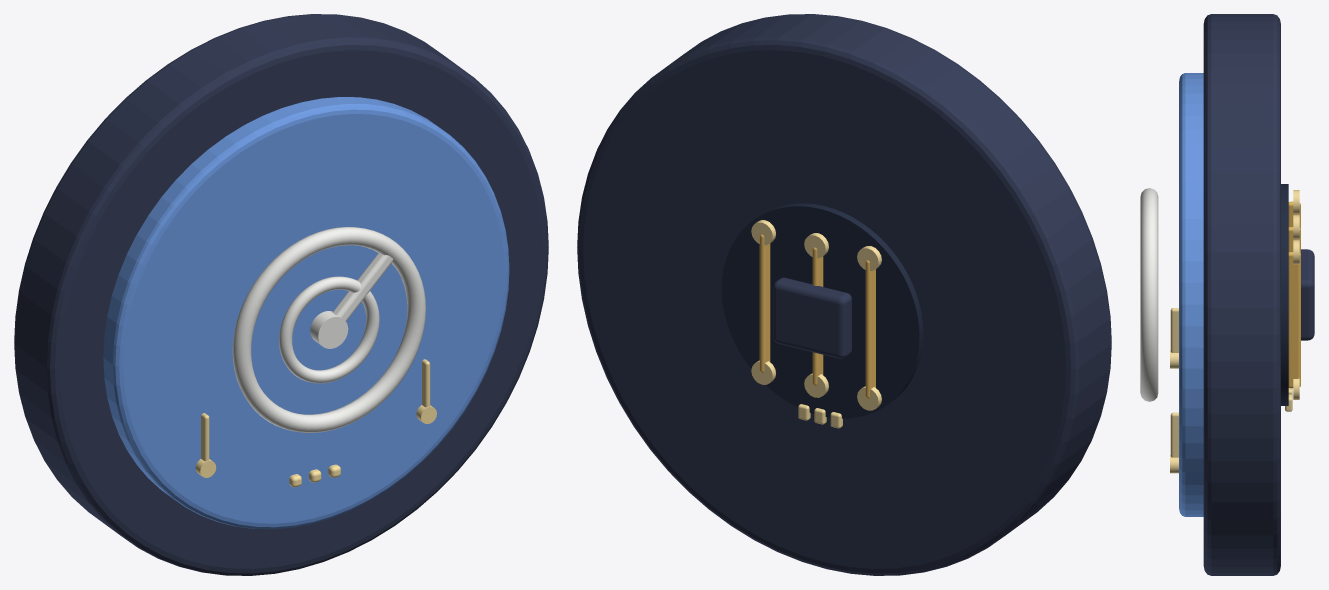
File: chip-inference.glb
3 renders of one model, left to right at view 1: azimuth 30°, elevation 25°; view 2: azimuth 150°, elevation 25°; view 3: azimuth 270°, elevation 25°, orthographic. The views are drawn at different scales.
Parts seen in each view (by area): view 1: component (×6); view 2: component (×6); view 3: component (×8).
Part boxes in pixels (x1,y1,x2,y2): component (×6): (14, 14, 548, 575); component (×6): (577, 14, 1111, 575); component (×8): (1140, 14, 1314, 575).
Bounding box in the file's own units: 0.0436 × 0.0436 × 0.0135.
